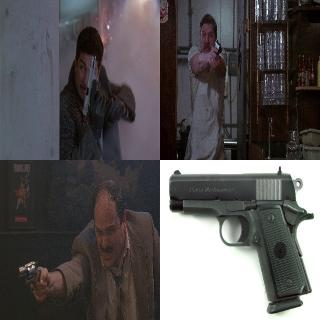gun: (168, 167, 307, 315), (81, 54, 107, 122), (16, 258, 46, 298), (209, 36, 225, 70)
